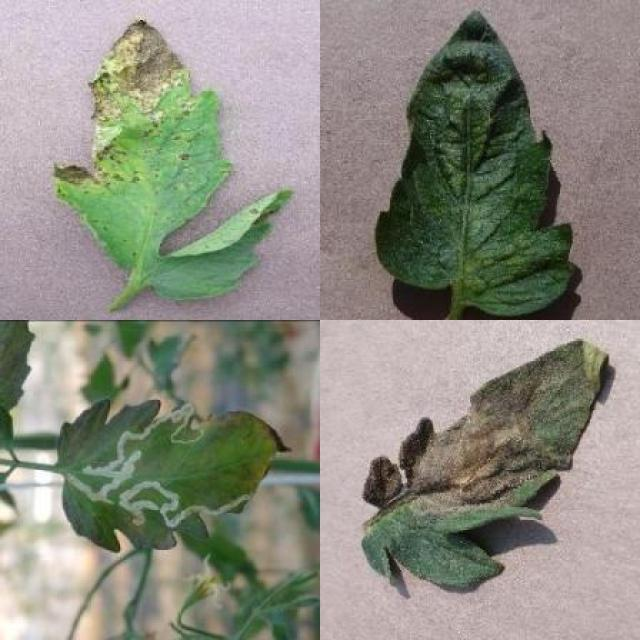Late Blight: (362, 338, 608, 588)
Leaf Miner: (54, 398, 295, 555)
Septoria: (55, 23, 294, 303)
Spider Mites: (376, 9, 573, 317)
